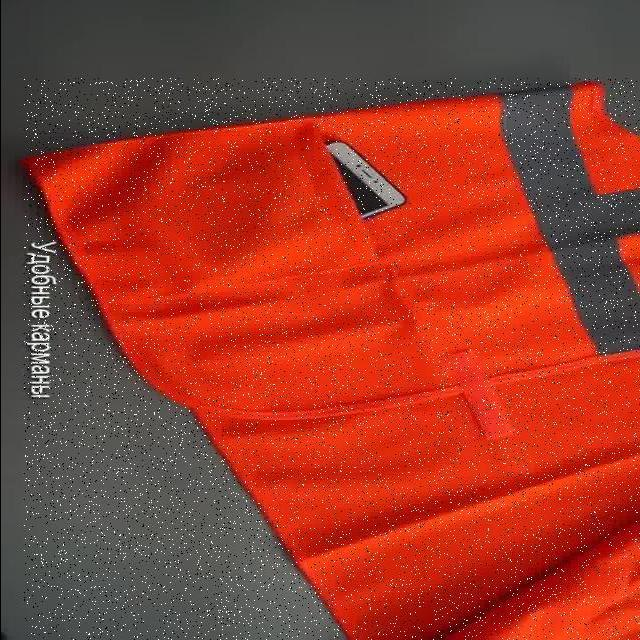vest: (23, 78, 640, 640)
